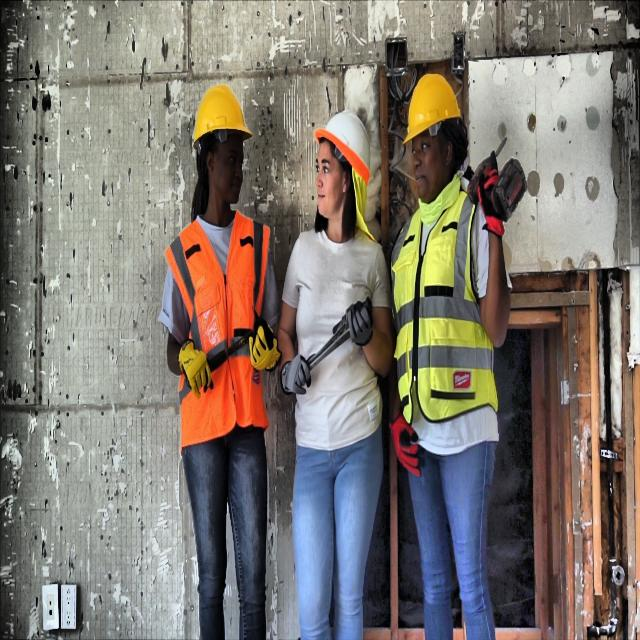gloved: (467, 166, 520, 236), (175, 333, 219, 404), (336, 290, 379, 349), (386, 408, 429, 466), (245, 320, 283, 374), (278, 350, 316, 403)
